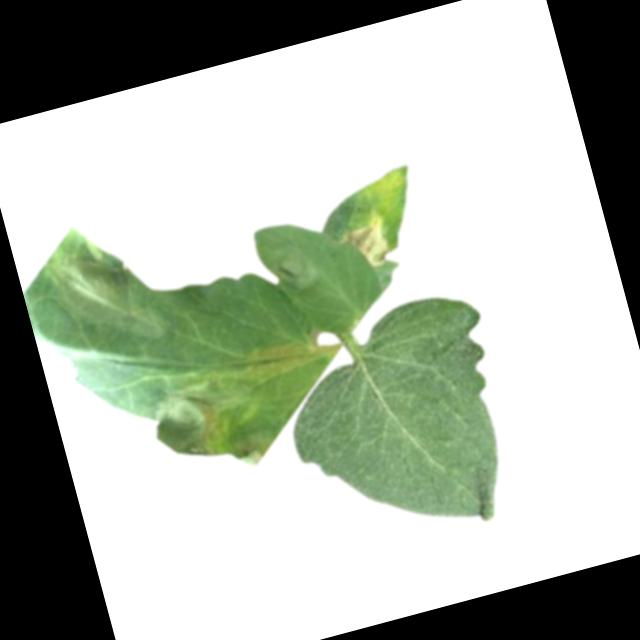Late_blight: (47, 237, 167, 358), (143, 367, 262, 469), (330, 210, 394, 276), (266, 241, 319, 296), (228, 423, 282, 471)
healthy: (266, 286, 533, 570)
